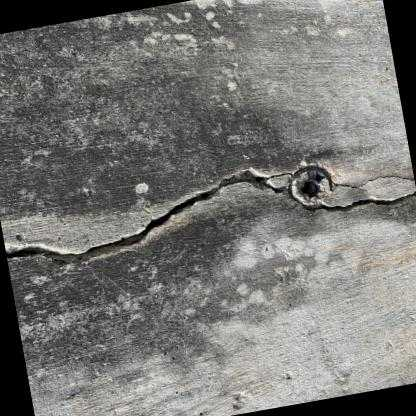crack: (4, 169, 416, 264)
